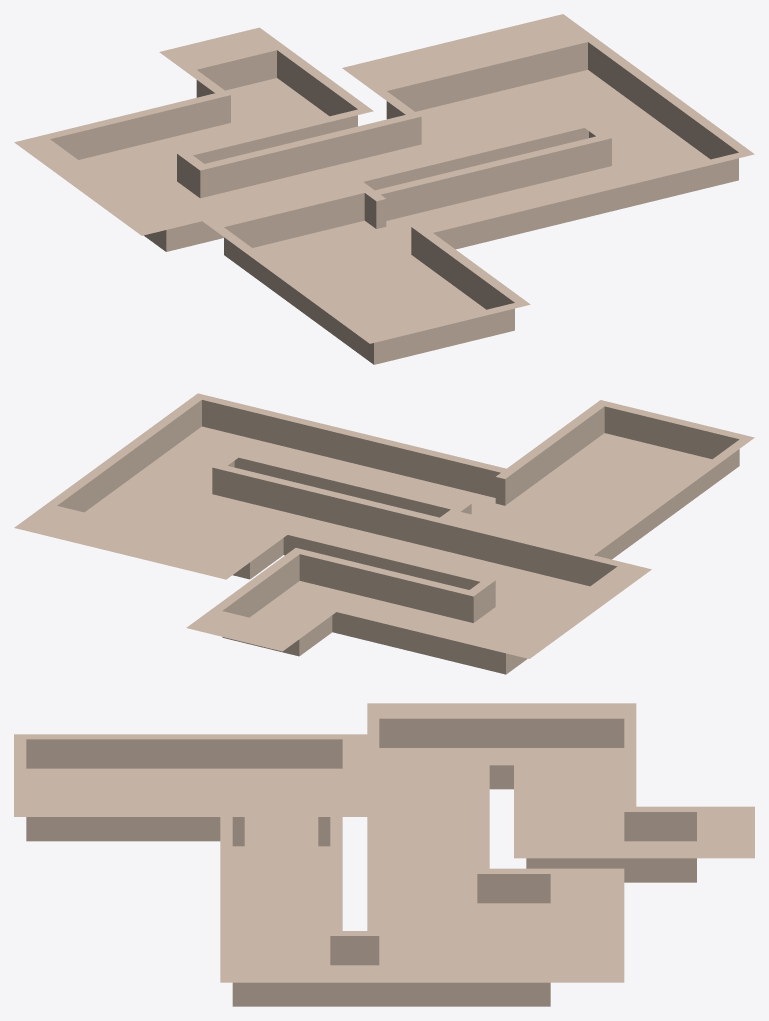
File: CantoChao.fbx
3 views of the same model, one above another, from view 1: azimuth 30°, elevation 25°; view 2: azimuth 150°, elevation 25°; view 3: azimuth 270°, elevation 25° (orthographic). The views are drawn at different scales.
Visible parts, largest first — view 1: Canto_Chao; view 2: Canto_Chao; view 3: Canto_Chao.
Part boxes in pixels (x1,y1,x2,y2): Canto_Chao: (14,14,754,364); Canto_Chao: (14,393,754,674); Canto_Chao: (14,703,754,1006).
Bounding box in the file's own units: 5400 × 264 × 6054.
